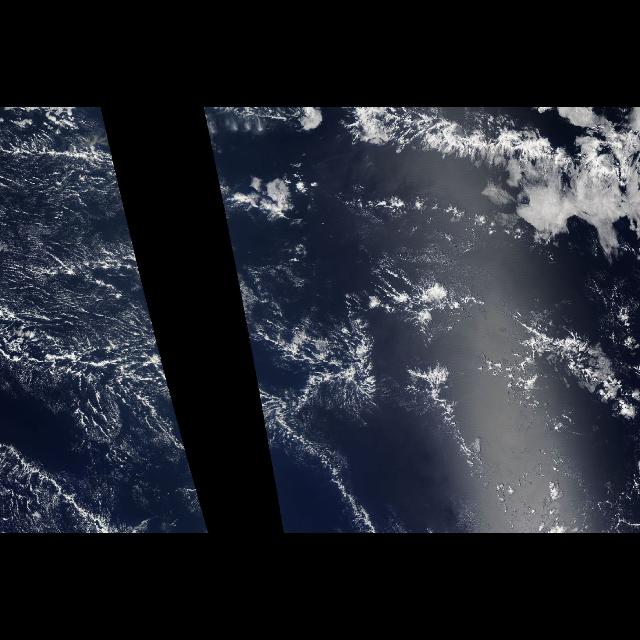Fish: (4, 134, 124, 208), (208, 134, 310, 208)
Sugar: (2, 132, 180, 444)
